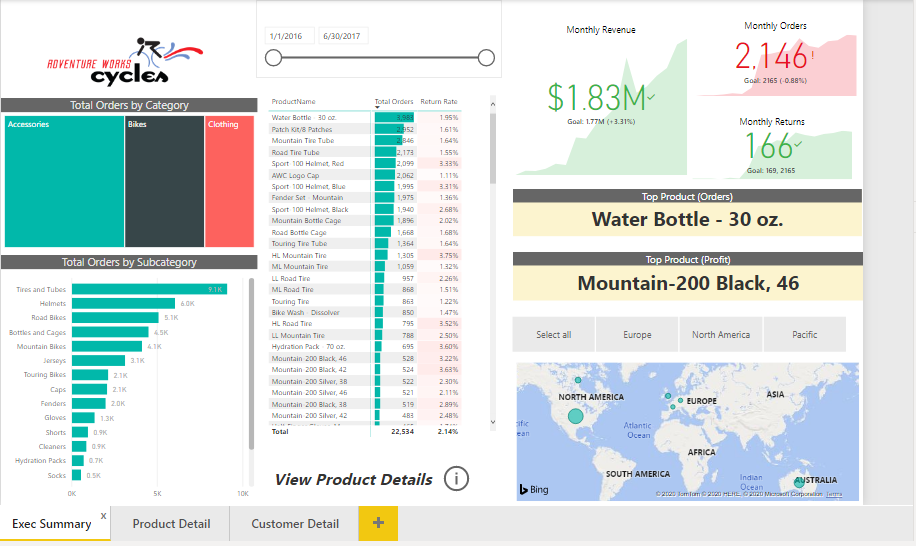

This screenshot's page, from the dashboard's own definition file:
{"tool":"powerbi","page":{"name":"Exec Summary","canvas":[1280,720],"ordinal":0},"visuals":[{"type":"image","box":[9.4,20.4,352.9,82.6],"z":1},{"type":"treemap","fields":{"Group":["AW-Product-Categories.CategoryName","AW-Product-Subcategories.SubcategoryName"],"Values":["AW_Sales.Total Orders"]},"box":[0,116.1,381.2,227.5],"z":2},{"type":"barChart","fields":{"Y":["AW_Sales.Total Orders"],"Category":["AW-Product-Subcategories.SubcategoryName"]},"box":[0,348.2,380.7,371.8],"z":2},{"type":"pivotTable","fields":{"Values":["AW_Sales.Total Orders","AW-Returns.Return Rate"],"Rows":["AW-Product-Categories.CategoryName","AW-Product-Subcategories.SubcategoryName","AW_Product_Lookup.ProductName"]},"box":[392.2,106.7,348.2,516.6],"z":3},{"type":"slicer","fields":{"Values":["AW_Calendar_Lookup.Date"]},"box":[378,0,365.5,86.3],"z":5},{"type":"kpi","fields":{"TrendLine":["AW_Calendar_Lookup.Start of Month"],"Goal":["AW_Sales.Prev Month Orders"],"Indicator":["AW_Sales.Total Orders"]},"box":[1024.3,0,251,117.6],"z":6},{"type":"kpi","fields":{"Indicator":["AW_Sales.Total Revenue"],"TrendLine":["AW_Calendar_Lookup.Start of Month"],"Goal":["AW_Sales.Prev Month Revenue"]},"box":[758.2,6.3,264.6,229],"z":6},{"type":"kpi","fields":{"TrendLine":["AW_Calendar_Lookup.Start of Month"],"Goal":["AW-Returns.Prev Month Returns","AW_Sales.Prev Month Orders"],"Indicator":["AW-Returns.TotalReturns"]},"box":[1021.2,142.7,246.8,98.8],"z":6},{"type":"card","fields":{"Values":["Min(AW_Product_Lookup.ProductName)"]},"box":[760.8,251,517.6,70.1],"z":9},{"type":"card","fields":{"Values":["Min(AW_Product_Lookup.ProductName)"]},"box":[760.3,345.1,519.7,72.2],"z":9},{"type":"map","fields":{"Category":["AW_Territories_Lookup.Country"],"Size":["AW_Sales.Total Orders"]},"box":[760.8,503.5,519.2,216.5],"z":11},{"type":"slicer","fields":{"Values":["AW_Territories_Lookup.Continent"]},"box":[733.6,432.9,544.8,65.9],"z":12},{"type":"textbox","box":[400,659.9,269.8,51.8],"z":13},{"type":"actionButton","box":[651,655.7,62.7,48.6],"z":14}]}

Visuals, with their boxes on the page's 1280x720 design canvas (x1, y1, x2, y2). These are canvas units, not pixel positions in the 916x546 screenshot, which may show the page scaled, cropped or inside an application window:
image: 9/20/362/103
treemap - AW-Product-Categories.CategoryName x AW-Product-Subcategories.SubcategoryName: 0/116/381/344
barChart - AW_Sales.Total Orders x AW-Product-Subcategories.SubcategoryName: 0/348/381/720
pivotTable - AW_Sales.Total Orders x AW-Returns.Return Rate: 392/107/740/623
slicer - AW_Calendar_Lookup.Date: 378/0/744/86
kpi - AW_Calendar_Lookup.Start of Month x AW_Sales.Prev Month Orders: 1024/0/1275/118
kpi - AW_Sales.Total Revenue x AW_Calendar_Lookup.Start of Month: 758/6/1023/235
kpi - AW_Calendar_Lookup.Start of Month x AW-Returns.Prev Month Returns: 1021/143/1268/242
card - Min(AW_Product_Lookup.ProductName): 761/251/1278/321
card - Min(AW_Product_Lookup.ProductName): 760/345/1280/417
map - AW_Territories_Lookup.Country x AW_Sales.Total Orders: 761/504/1280/720
slicer - AW_Territories_Lookup.Continent: 734/433/1278/499
textbox: 400/660/670/712
actionButton: 651/656/714/704
